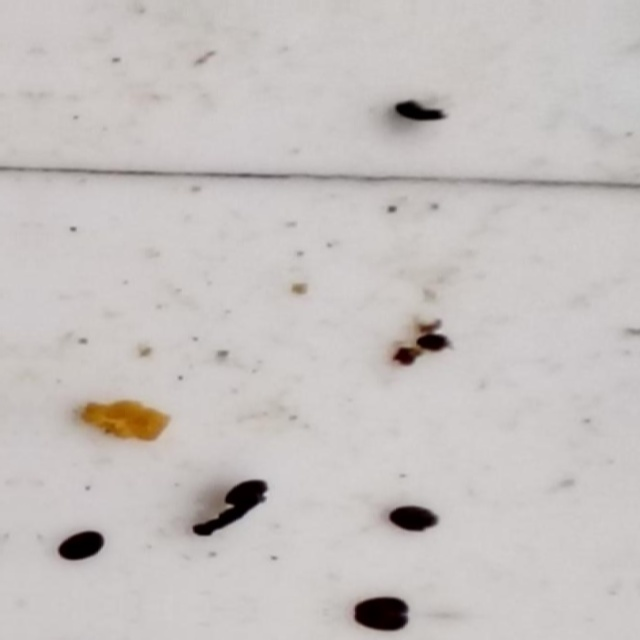varroa: (55, 530, 107, 563), (385, 504, 439, 534), (225, 480, 272, 509), (391, 101, 445, 125), (352, 594, 413, 614)
